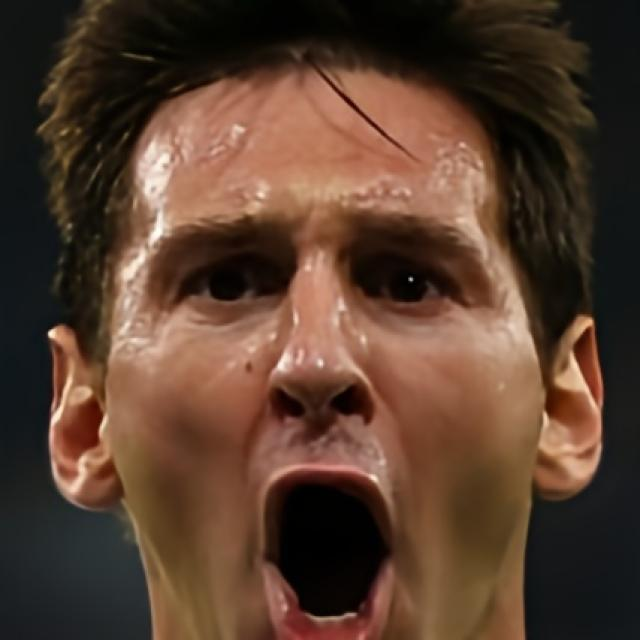Fear: (101, 62, 540, 640)
